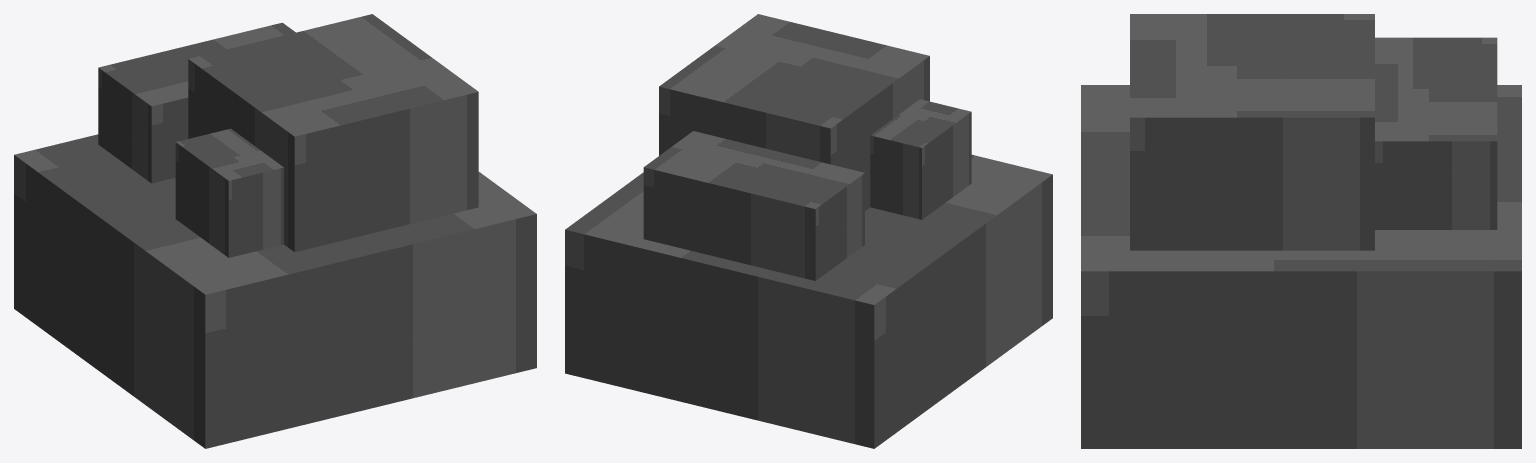
The model's file is Rock3.obj.
The picture shows the model from 3 angles, left to right: view 1: azimuth 30°, elevation 25°; view 2: azimuth 150°, elevation 25°; view 3: azimuth 270°, elevation 25°; orthographic projection. The views are drawn at different scales.
Parts seen in each view (by area): view 1: mesh; view 2: mesh; view 3: mesh.
Boxes of the visible parts, x1,y1,x2,y2 form: mesh: (14, 14, 536, 448); mesh: (565, 14, 1052, 448); mesh: (1081, 14, 1521, 448).
Bounding box in the file's own units: 1.12 × 0.875 × 1.12.
1 material, 1 textured.
